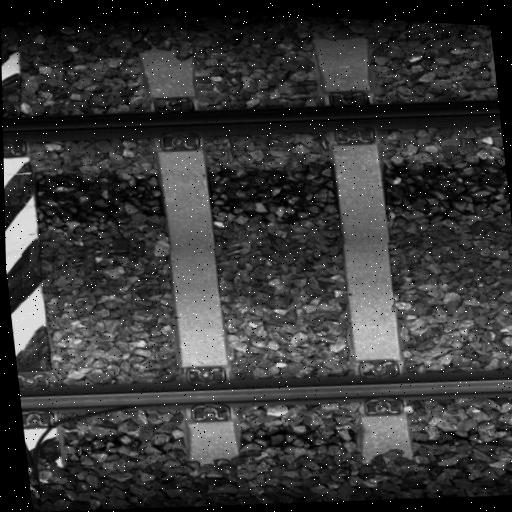clips: (146, 92, 203, 155), (178, 360, 231, 424), (354, 355, 403, 416), (325, 85, 373, 147), (18, 368, 56, 431), (2, 98, 24, 157)
sleepers: (135, 37, 247, 486), (309, 30, 419, 479), (1, 48, 73, 489), (482, 28, 512, 469)
